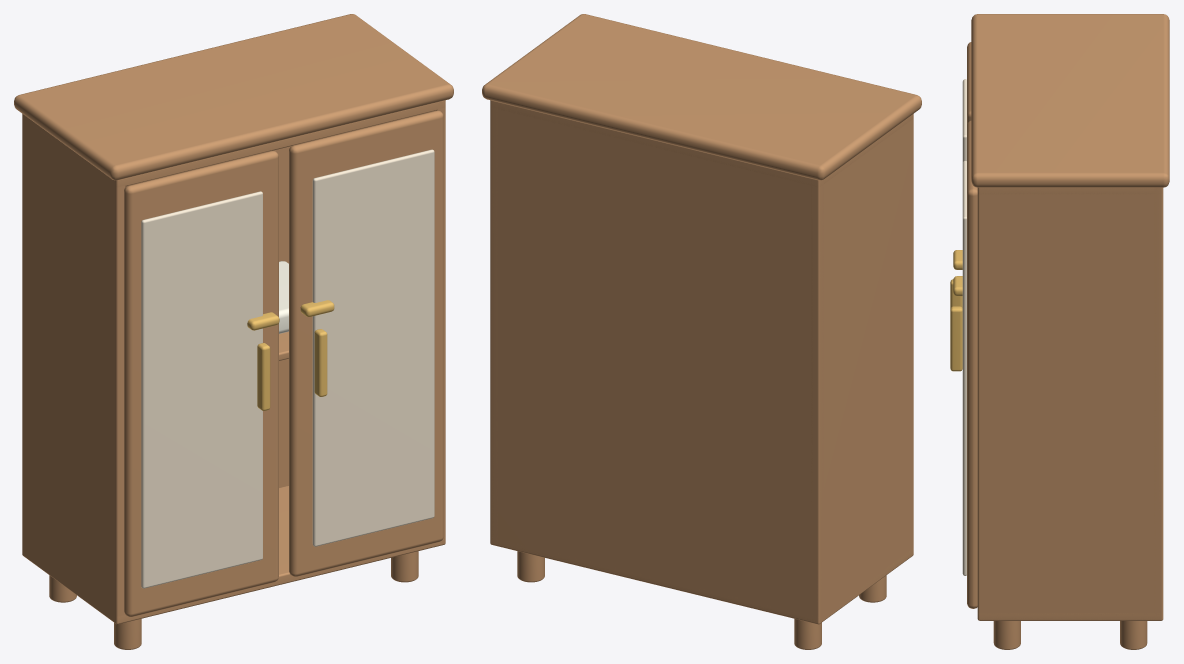
File: bedroomWardrobe.glb
The picture shows the model from 3 angles, left to right: view 1: azimuth 30°, elevation 25°; view 2: azimuth 150°, elevation 25°; view 3: azimuth 270°, elevation 25°; orthographic projection. The views are drawn at different scales.
Visible parts, largest first — view 1: Storage inner side, Inset oak panel, Inset oak panel.001, Rounded cabinet top, Cabinet door.001, Cabinet door, Storage inner floor.001, Storage inner back, Storage inner floor, Storage inner side.001, Wardrobe door handle, Wardrobe door handle.001 (+3 smaller); view 2: Storage inner back, Storage inner side, Rounded cabinet top, Storage inner side.001, Storage inner floor.001, Storage inner floor, Furniture foot.001, Furniture foot.003; view 3: Storage inner side.001, Rounded cabinet top, Cabinet door.001, Storage inner back, Inset oak panel.001, Storage inner floor.001, Storage inner floor, Wardrobe door handle.001, Furniture foot.002, Furniture foot.003, Inset oak panel, Cabinet door.
Part boxes in pixels (x1,y1,x2,y2): Storage inner side: (22,114,125,624); Inset oak panel: (141,191,262,588); Inset oak panel.001: (312,149,434,546); Rounded cabinet top: (14,14,453,180); Cabinet door.001: (289,110,443,576); Cabinet door: (124,150,278,616); Storage inner floor.001: (23,100,445,187); Storage inner back: (23,117,291,487); Storage inner floor: (117,486,445,624); Storage inner side.001: (437,101,445,545); Wardrobe door handle: (257,343,270,410); Wardrobe door handle.001: (314,329,327,396); Storage inner back: (490,100,823,624); Storage inner side: (811,117,913,624); Rounded cabinet top: (482,14,921,180); Storage inner side.001: (490,101,497,545); Storage inner floor.001: (491,100,913,186); Storage inner floor: (492,537,913,623); Furniture foot.001: (794,618,821,649); Furniture foot.003: (517,551,544,582); Storage inner side.001: (977,188,1163,620); Rounded cabinet top: (971,14,1169,187); Cabinet door.001: (967,120,977,608); Storage inner back: (1154,187,1163,620); Inset oak panel.001: (962,160,966,575); Storage inner floor.001: (977,187,1162,194); Storage inner floor: (978,613,1162,620); Wardrobe door handle.001: (950,306,962,371); Furniture foot.002: (993,621,1020,649); Furniture foot.003: (1120,621,1147,649); Inset oak panel: (962,79,966,162); Cabinet door: (967,42,971,124).
Bounding box in the file's own units: 1.56 × 2.16 × 0.885.
